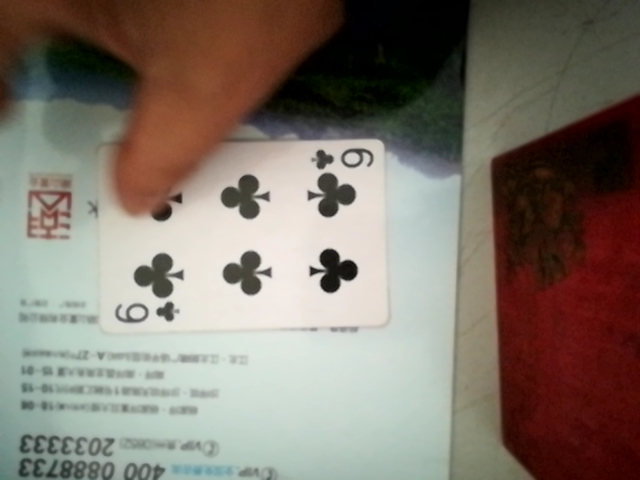mh 6: (77, 130, 386, 345)
